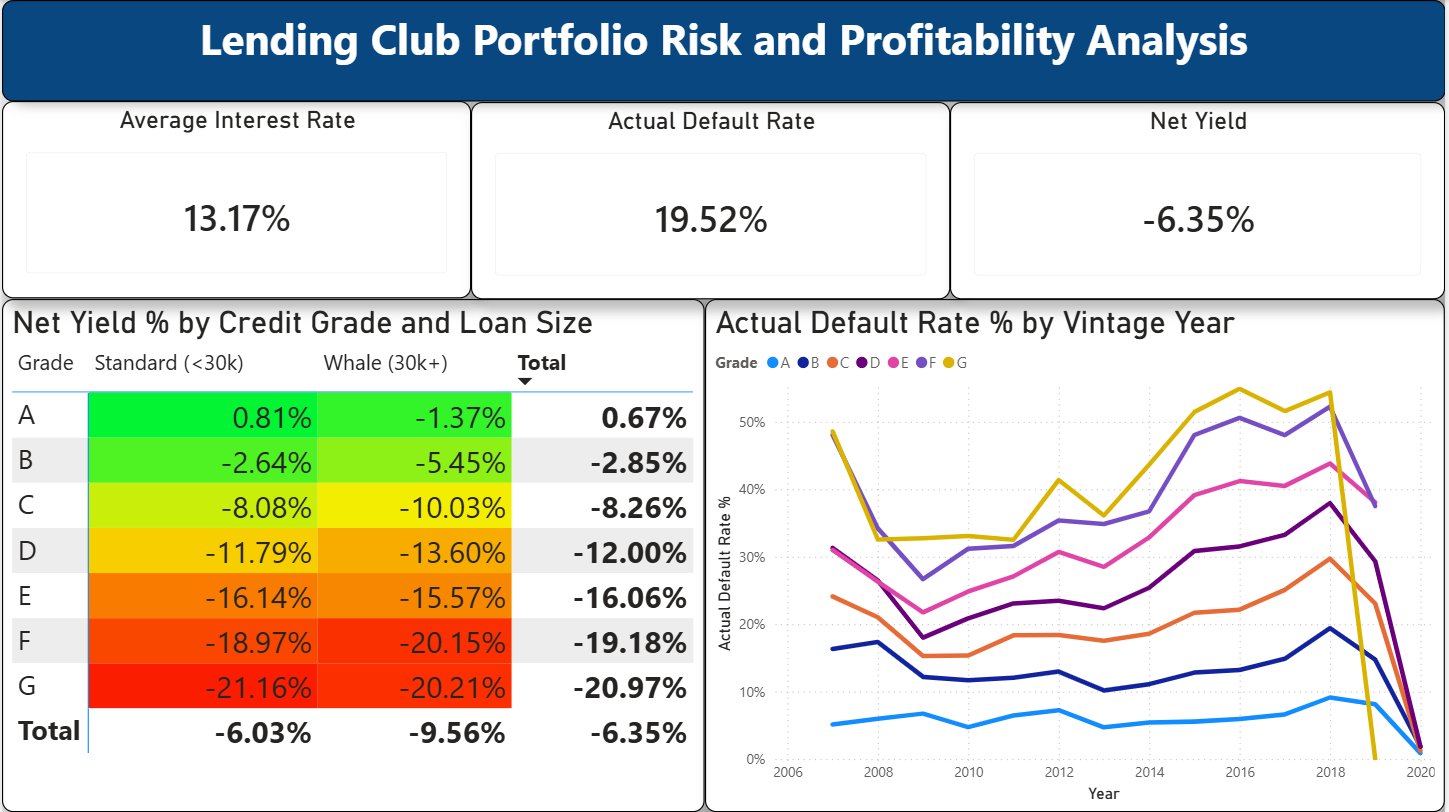

What the dashboard file says about the page in this screenshot:
{"tool":"powerbi","page":{"name":"Profitability","canvas":[1280,720],"ordinal":0},"visuals":[{"type":"pivotTable","title":"Net Yield % by Credit Grade and Loan Size","fields":{"Rows":["LendingClub_PBI_Final.Grade"],"Columns":["LendingClub_PBI_Final.Size"],"Values":["LendingClub_PBI_Final.Net Yield %"]},"box":[0,265.1,623.3,454.9],"z":0},{"type":"lineChart","title":"Actual Default Rate % by Vintage Year","fields":{"Y":["LendingClub_PBI_Final.Actual Default Rate %"],"Category":["LendingClub_PBI_Final.Year"],"Series":["LendingClub_PBI_Final.Grade"]},"box":[623.6,264.7,656.4,455.3],"z":1000},{"type":"cardVisual","title":"Average Interest Rate","fields":{"Data":["LendingClub_PBI_Final.Avg Interest Rate %"]},"box":[0,90,416.1,174.7],"z":2000},{"type":"cardVisual","title":"Actual Default Rate ","fields":{"Data":["LendingClub_PBI_Final.Actual Default Rate %"]},"box":[416,90,425,175],"z":3000},{"type":"cardVisual","title":"Net Yield","fields":{"Data":["LendingClub_PBI_Final.Net Yield %"]},"box":[841,90,439,175],"z":4000},{"type":"textbox","box":[0,0,1280,90],"z":4001}]}

Visuals, with their boxes in screenshot pixels (x1, y1, x2, y2), scaled from the page's 1280x720 canvas onto the 1449x812 screenshot:
"Net Yield % by Credit Grade and Loan Size" pivotTable: bbox=(0, 299, 706, 811)
"Actual Default Rate % by Vintage Year" lineChart: bbox=(706, 299, 1448, 811)
"Average Interest Rate" cardVisual: bbox=(0, 102, 471, 299)
"Actual Default Rate " cardVisual: bbox=(471, 102, 952, 299)
"Net Yield" cardVisual: bbox=(952, 102, 1448, 299)
textbox: bbox=(0, 0, 1448, 102)
